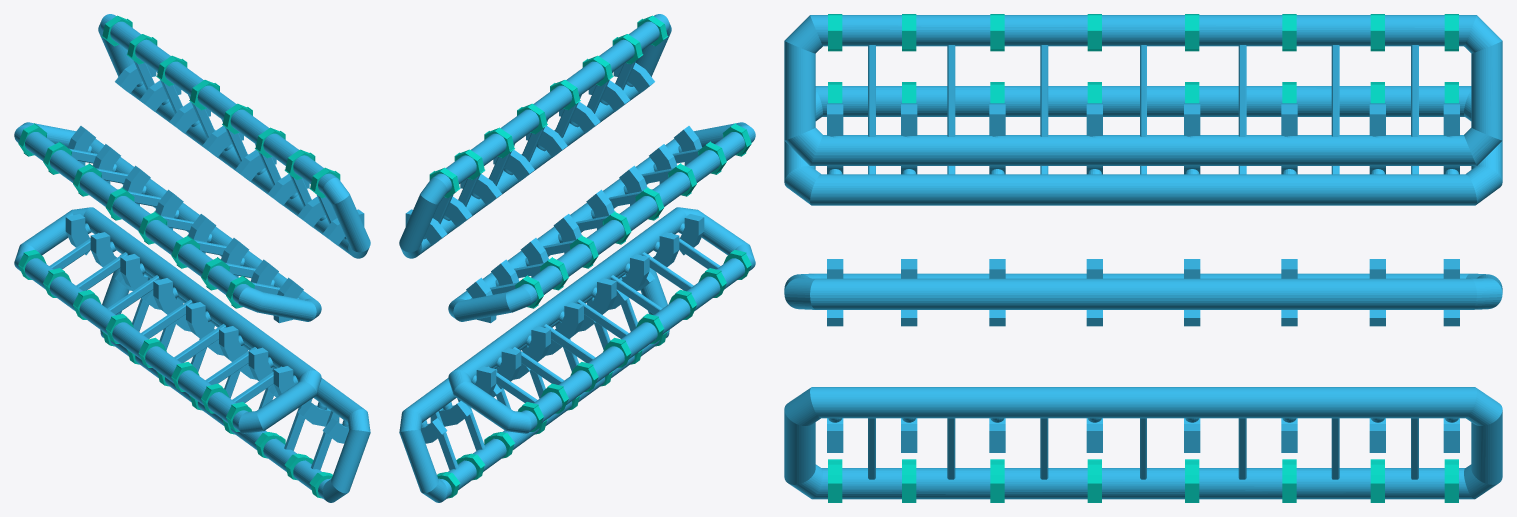
The model's file is Barrel-Toroid-cut2.glb.
3 renders of one model, left to right at view 1: azimuth 30°, elevation 25°; view 2: azimuth 150°, elevation 25°; view 3: azimuth 270°, elevation 25°, orthographic. The views are drawn at different scales.
Parts seen in each view (by area): view 1: null; view 2: null; view 3: null.
Boxes of the visible parts, x1=… form: null: x1=14, y1=14, x2=370, y2=502; null: x1=399, y1=14, x2=755, y2=502; null: x1=784, y1=14, x2=1502, y2=502.
Size of the model in its own units: 8.03 by 18.93 by 25.26.
